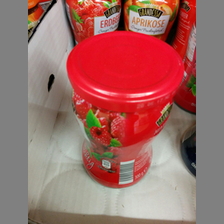jam: (68, 31, 185, 189)
